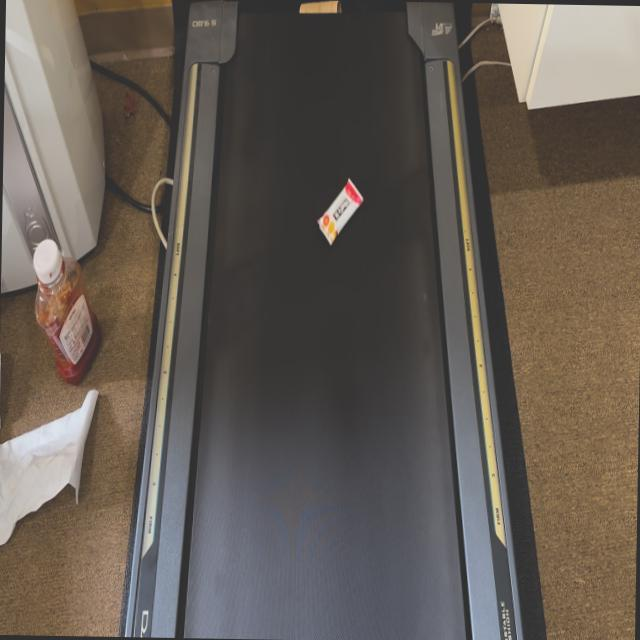Trash: (316, 172, 364, 246)
